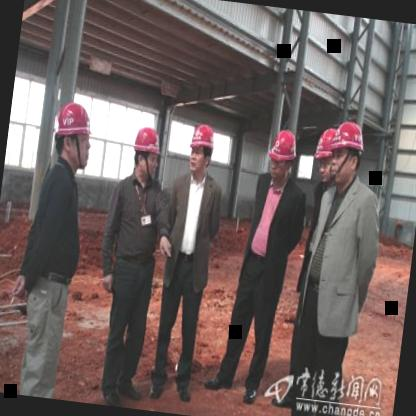helmet: (48, 97, 100, 175), (326, 116, 368, 191), (127, 119, 164, 182), (264, 126, 302, 186), (184, 120, 216, 177), (313, 127, 340, 187)
